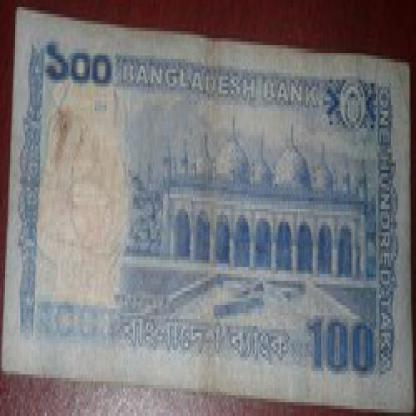one hundred taka: (306, 305, 375, 395), (43, 35, 113, 100)
